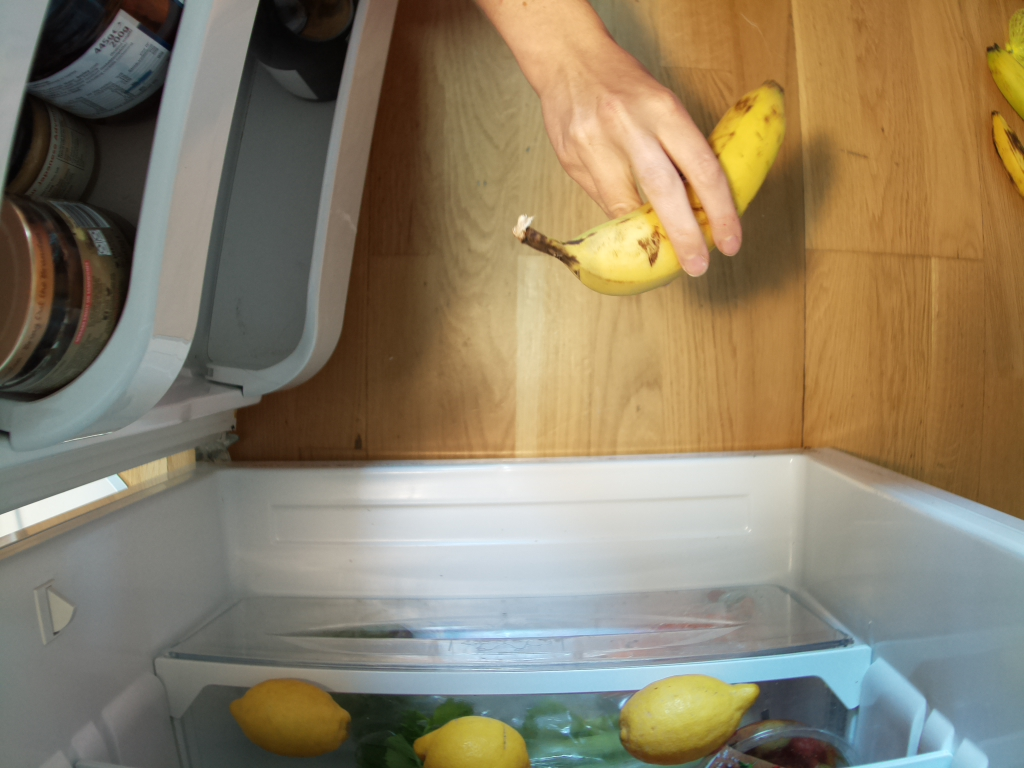banana: (510, 77, 787, 305)
